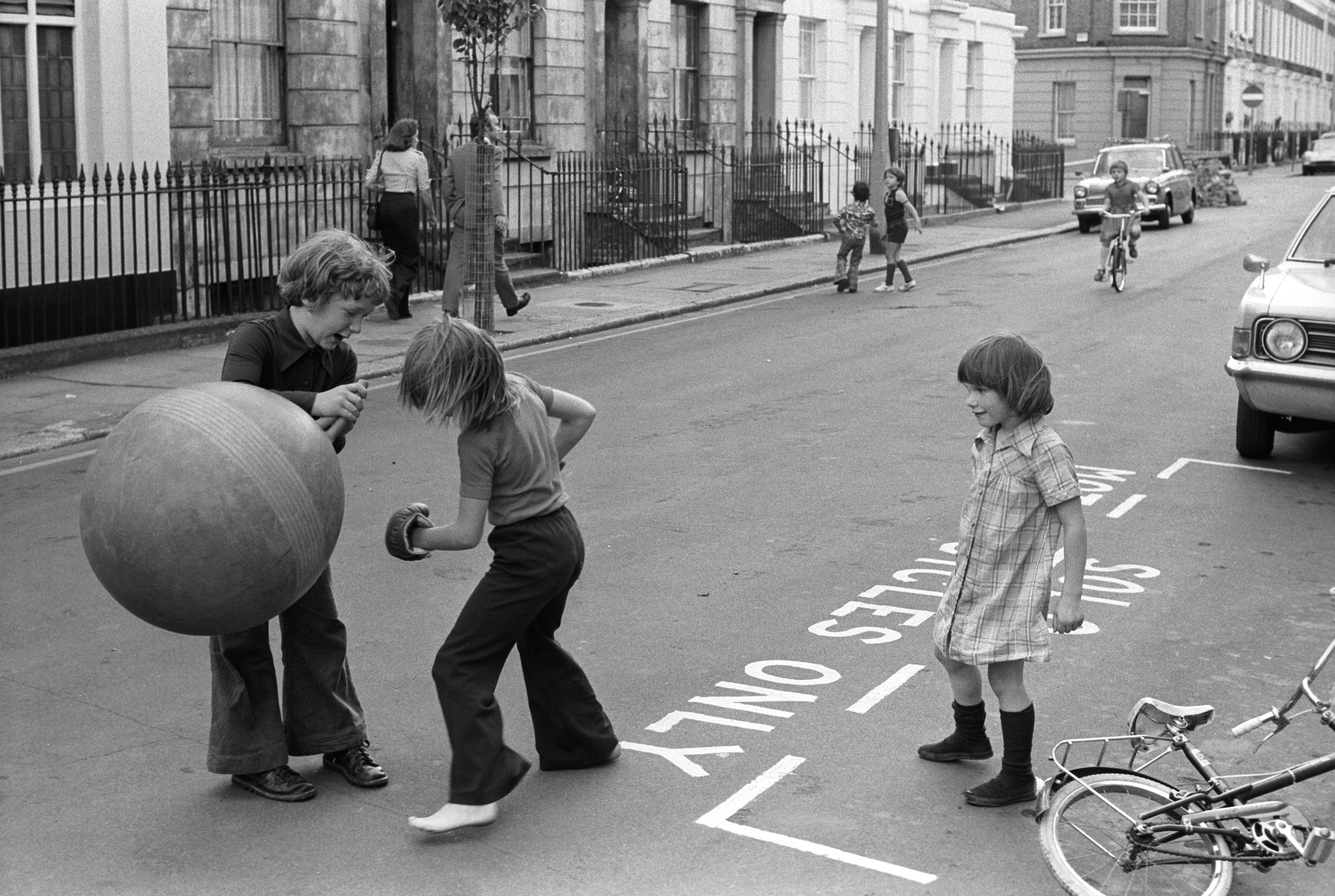Bicycle: (1041, 665, 1335, 896)
Car: (1234, 165, 1335, 492)
Person: (404, 313, 626, 838), (921, 335, 1082, 820), (368, 119, 434, 321), (864, 165, 914, 300)
